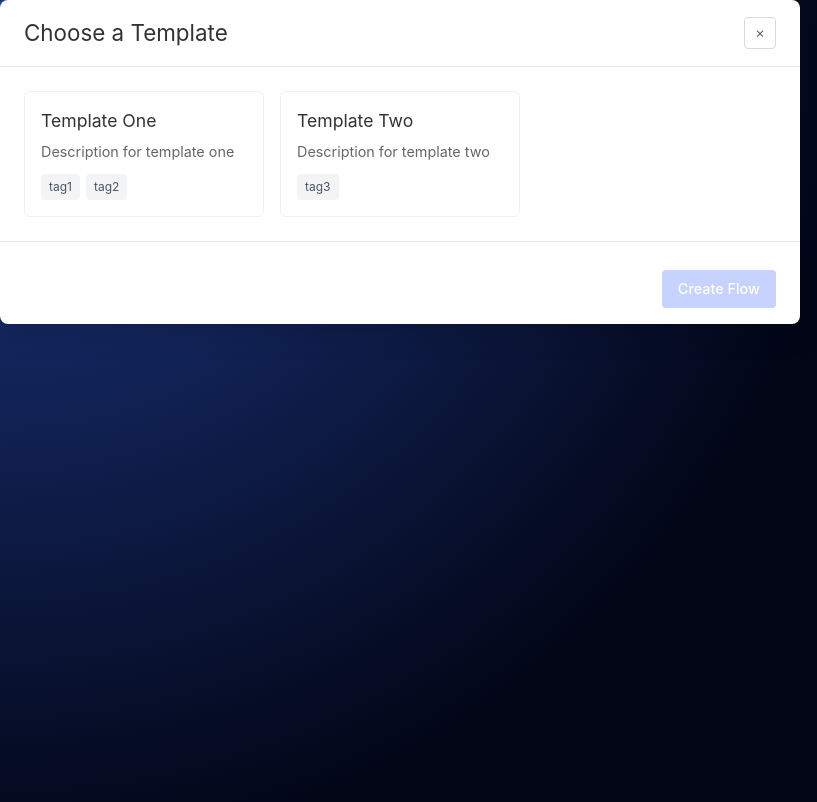
TemplateLoader › should enable the "Create Flow" button when a template is selected
Expected: the button "Create Flow" is disabled, top-left (662, 270), bottom-right (776, 308)
Click the heading "Template One".
click(99, 120)  # box top-left (41, 110), bottom-right (156, 131)
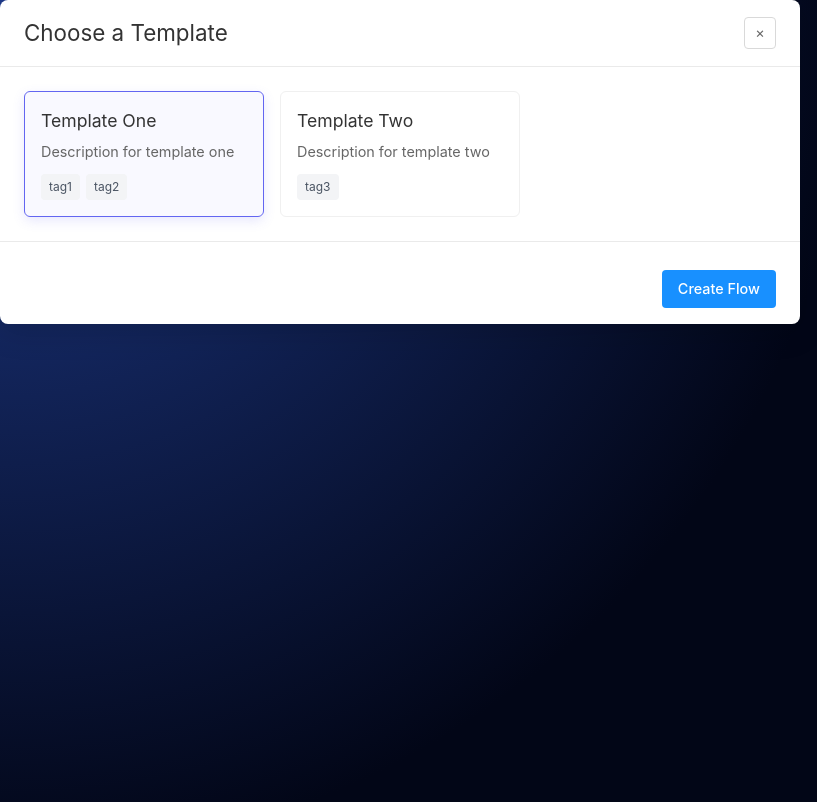
Expected: the button "Create Flow" is enabled, top-left (662, 270), bottom-right (776, 308)
